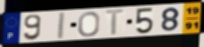5: (135, 6, 156, 34)
8: (160, 6, 181, 33)
9: (23, 14, 43, 41)
I: (55, 11, 67, 41)
O: (77, 11, 101, 38)
T: (103, 8, 127, 37)
